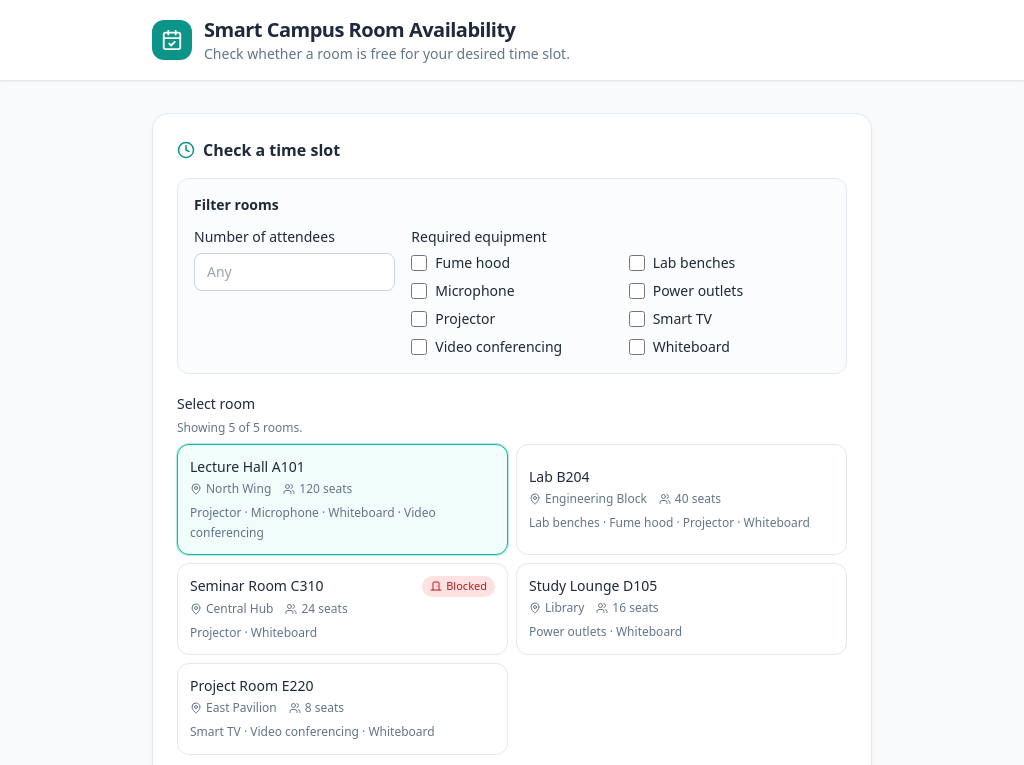
Test: App page integration › U6: attendee count equal to a room capacity shows that room and hides smaller rooms
This screenshot has width=1024, height=765.
Type "40" into the number field labelled "Number of attendees" at (295, 272), box [194,253,395,291]
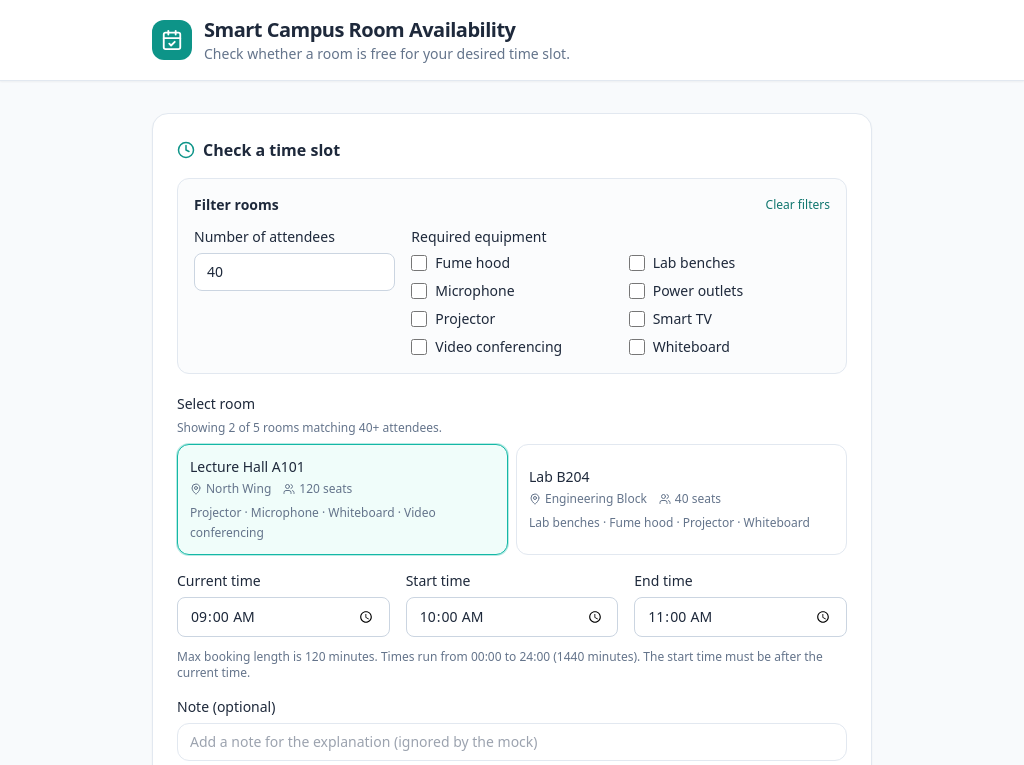
Expected: the button "Lab B204" is shown, [516,444,847,555]
Expected: the button "Seminar Room C310" is gone
